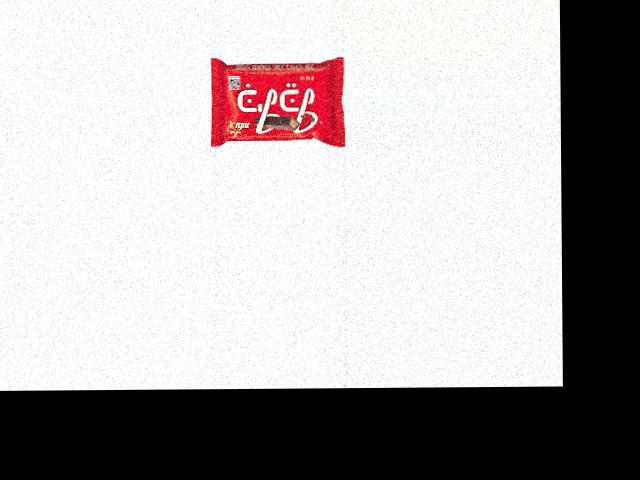chocolate: (211, 55, 344, 147)
